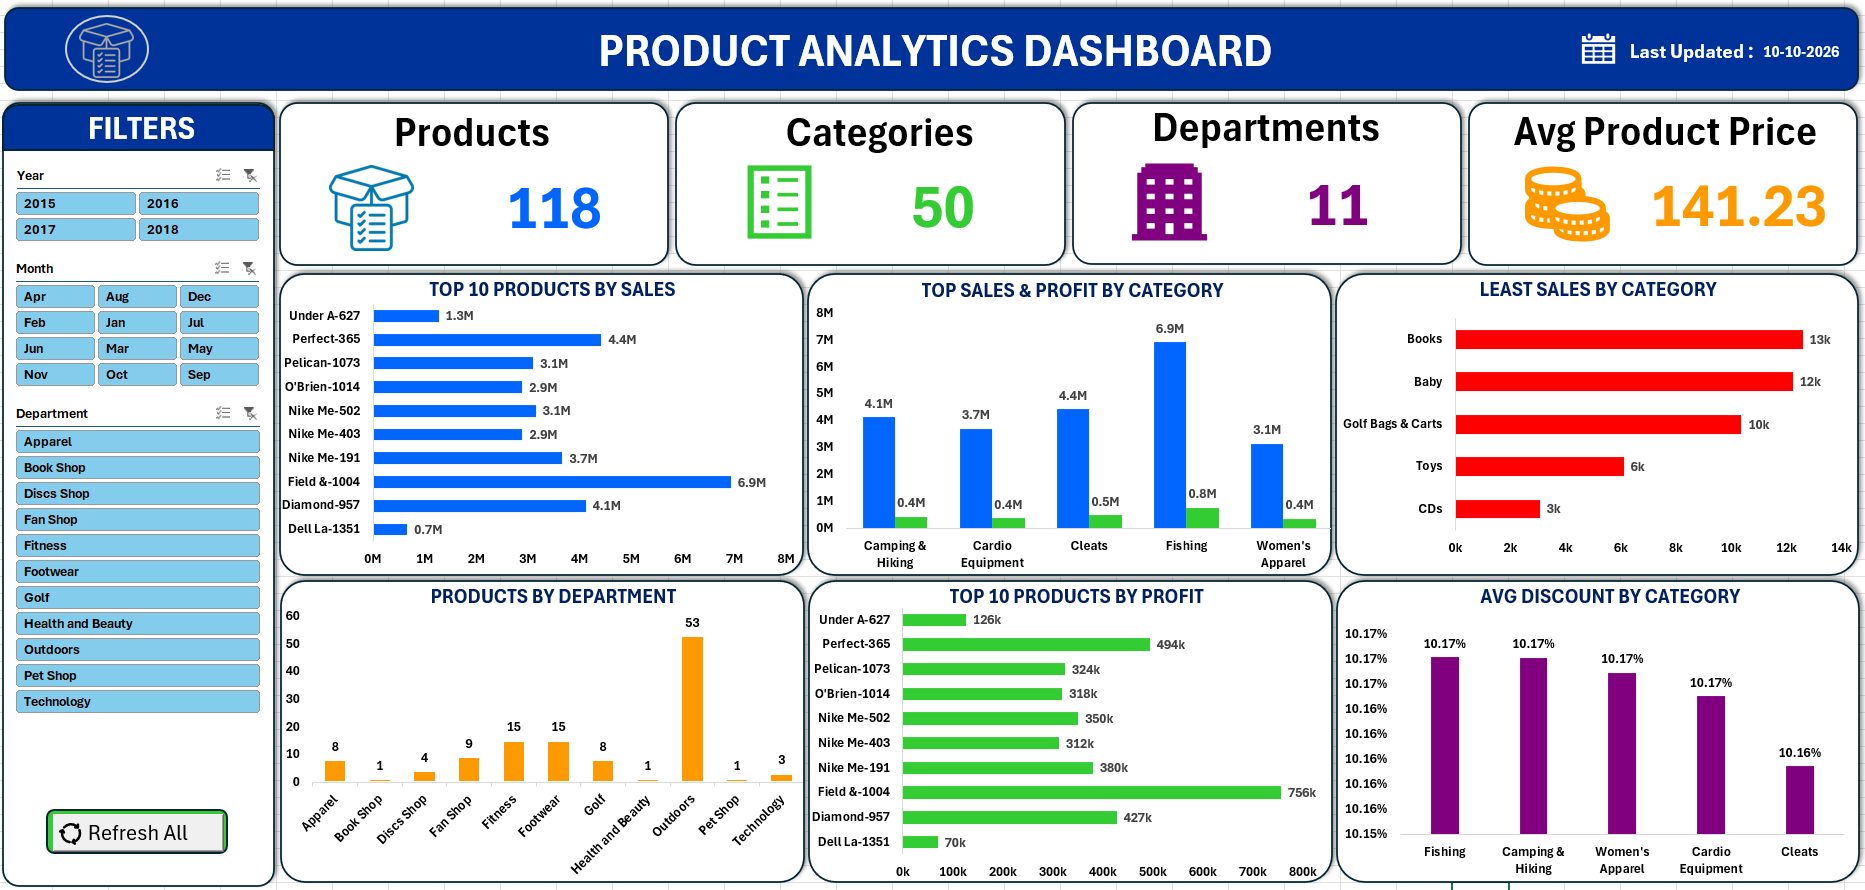

Layout of this report page (visuals, bound fields, positions):
{"tool":"powerbi","page":{"name":"Page 3","canvas":[2800,1500],"ordinal":2},"visuals":[{"type":"cardVisual","fields":{"Data":["Sum(gold fact_order_items.sales)"]},"box":[0,348.5,455,140],"z":0},{"type":"cardVisual","fields":{"Data":["Sum(gold fact_order_items.profit)"]},"box":[469,348.5,455,140],"z":1000},{"type":"cardVisual","fields":{"Data":["Count(gold fact_order_items.product_name)"]},"box":[1407.1,348.5,455,140],"z":2000},{"type":"cardVisual","fields":{"Data":["Count(gold fact_order_items.category_name)"]},"box":[1876.2,348.5,455,140],"z":3000},{"type":"cardVisual","fields":{"Data":["Avg(gold fact_order_items.discount_percent)"]},"box":[938.1,348.5,455,140],"z":4000},{"type":"cardVisual","fields":{"Data":["Count(gold fact_order_items.department_name)"]},"box":[2345,348.5,455,140],"z":5000},{"type":"clusteredColumnChart","title":"Sales & Profit by Category","fields":{"Y":["Sum(gold fact_order_items.sales)","Sum(gold fact_order_items.profit)"],"Category":["gold fact_order_items.category_name"]},"box":[0,1010.6,685,489.6],"z":6000},{"type":"clusteredBarChart","title":"Top 10 Products by Sales & Profit","fields":{"Category":["gold fact_order_items.product_name"],"Y":["Sum(gold fact_order_items.sales)","Sum(gold fact_order_items.profit)"]},"box":[1407.5,495,1392.5,510],"z":7000},{"type":"barChart","title":"Profit by Region","fields":{"Y":["Sum(gold fact_order_items.profit)"],"Category":["gold fact_order_items.region"]},"box":[698.4,1010.6,693.9,485.1],"z":8000},{"type":"slicer","fields":{"Values":["gold fact_order_items.calendar_date.Variation.Date Hierarchy.Year"]},"box":[8,228,545,115],"z":9000},{"type":"slicer","fields":{"Values":["gold fact_order_items.calendar_date.Variation.Date Hierarchy.Quarter"]},"box":[569.8,228,545,115],"z":10000},{"type":"slicer","fields":{"Values":["gold fact_order_items.region"]},"box":[1131.5,227.5,545,115],"z":11000},{"type":"slicer","fields":{"Values":["gold fact_order_items.department_name"]},"box":[1693.3,232.5,545,115],"z":12000},{"type":"slicer","fields":{"Values":["gold fact_order_items.category_name"]},"box":[2255,232.5,545,115],"z":13000},{"type":"lineClusteredColumnComboChart","title":"Monthly Sales & Profit Trend","fields":{"Category":["gold fact_order_items.calendar_date.Variation.Date Hierarchy.Month"],"Y":["Sum(gold fact_order_items.sales)"],"Y2":["Sum(gold fact_order_items.profit)"]},"box":[0,494.1,1392.4,509.8],"z":14000},{"type":"columnChart","title":"Product Count by Department","fields":{"Category":["gold fact_order_items.department_name"],"Y":["Count(gold fact_order_items.product_name)"]},"box":[1407.5,1010,1392.5,490],"z":15000},{"type":"textbox","box":[312.5,27.5,897.5,97.5],"z":16000},{"type":"textbox","box":[312.5,125,812.5,52.5],"z":17000}]}

Visuals, with their boxes on the page's 2800x1500 design canvas (x1, y1, x2, y2). These are canvas units, not pixel positions in the 1865x890 screenshot, which may show the page scaled, cropped or inside an application window:
cardVisual - Sum(gold fact_order_items.sales): [x1=0, y1=348, x2=455, y2=488]
cardVisual - Sum(gold fact_order_items.profit): [x1=469, y1=348, x2=924, y2=488]
cardVisual - Count(gold fact_order_items.product_name): [x1=1407, y1=348, x2=1862, y2=488]
cardVisual - Count(gold fact_order_items.category_name): [x1=1876, y1=348, x2=2331, y2=488]
cardVisual - Avg(gold fact_order_items.discount_percent): [x1=938, y1=348, x2=1393, y2=488]
cardVisual - Count(gold fact_order_items.department_name): [x1=2345, y1=348, x2=2800, y2=488]
"Sales & Profit by Category" clusteredColumnChart: [x1=0, y1=1011, x2=685, y2=1500]
"Top 10 Products by Sales & Profit" clusteredBarChart: [x1=1408, y1=495, x2=2800, y2=1005]
"Profit by Region" barChart: [x1=698, y1=1011, x2=1392, y2=1496]
slicer - gold fact_order_items.calendar_date.Variation.Date Hierarchy.Year: [x1=8, y1=228, x2=553, y2=343]
slicer - gold fact_order_items.calendar_date.Variation.Date Hierarchy.Quarter: [x1=570, y1=228, x2=1115, y2=343]
slicer - gold fact_order_items.region: [x1=1132, y1=228, x2=1676, y2=342]
slicer - gold fact_order_items.department_name: [x1=1693, y1=232, x2=2238, y2=348]
slicer - gold fact_order_items.category_name: [x1=2255, y1=232, x2=2800, y2=348]
"Monthly Sales & Profit Trend" lineClusteredColumnComboChart: [x1=0, y1=494, x2=1392, y2=1004]
"Product Count by Department" columnChart: [x1=1408, y1=1010, x2=2800, y2=1500]
textbox: [x1=312, y1=28, x2=1210, y2=125]
textbox: [x1=312, y1=125, x2=1125, y2=178]
